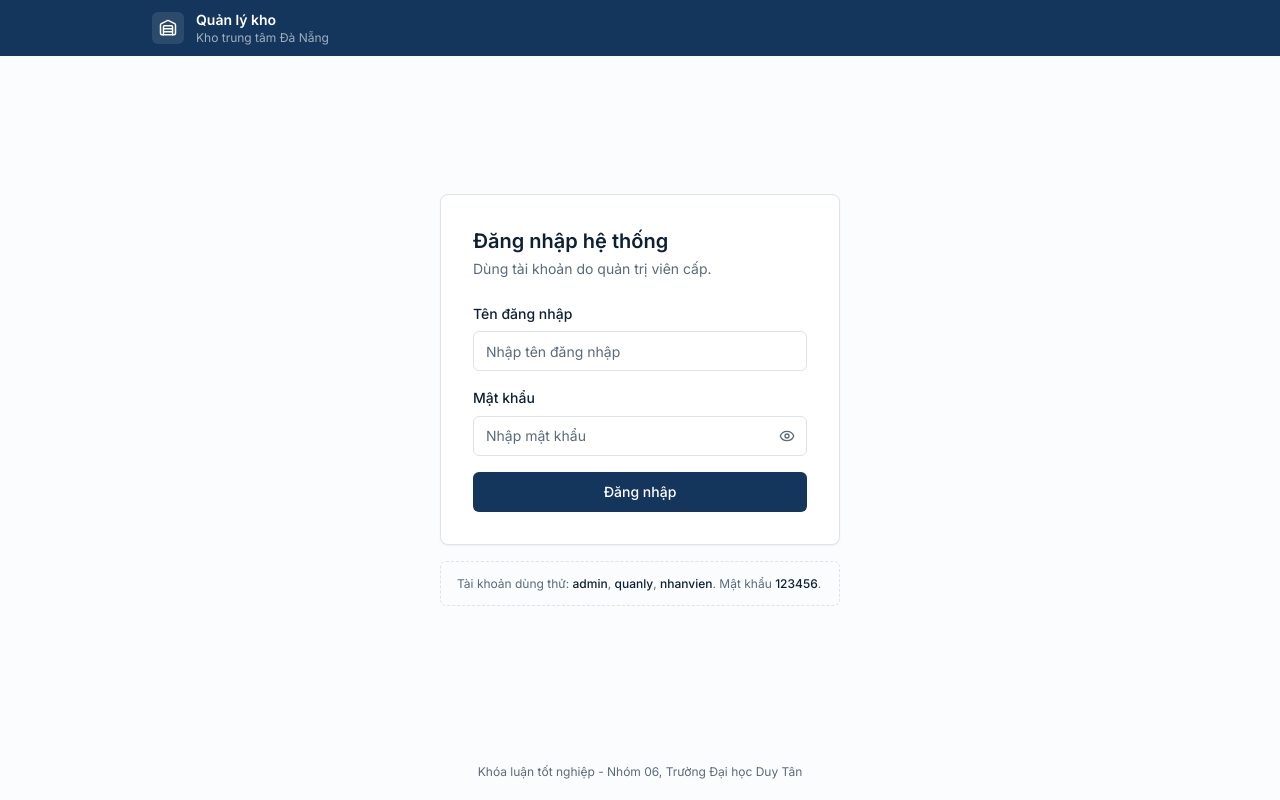
LoginPage › hiển thị thông báo lỗi từ API dưới form khi sai mật khẩu hoặc tài khoản bị khóa
The image size is (1280, 800).
Type "quanly" into the field labelled "Tên đăng nhập".
click(640, 351); type("quanly")  # box [473,331,807,371]
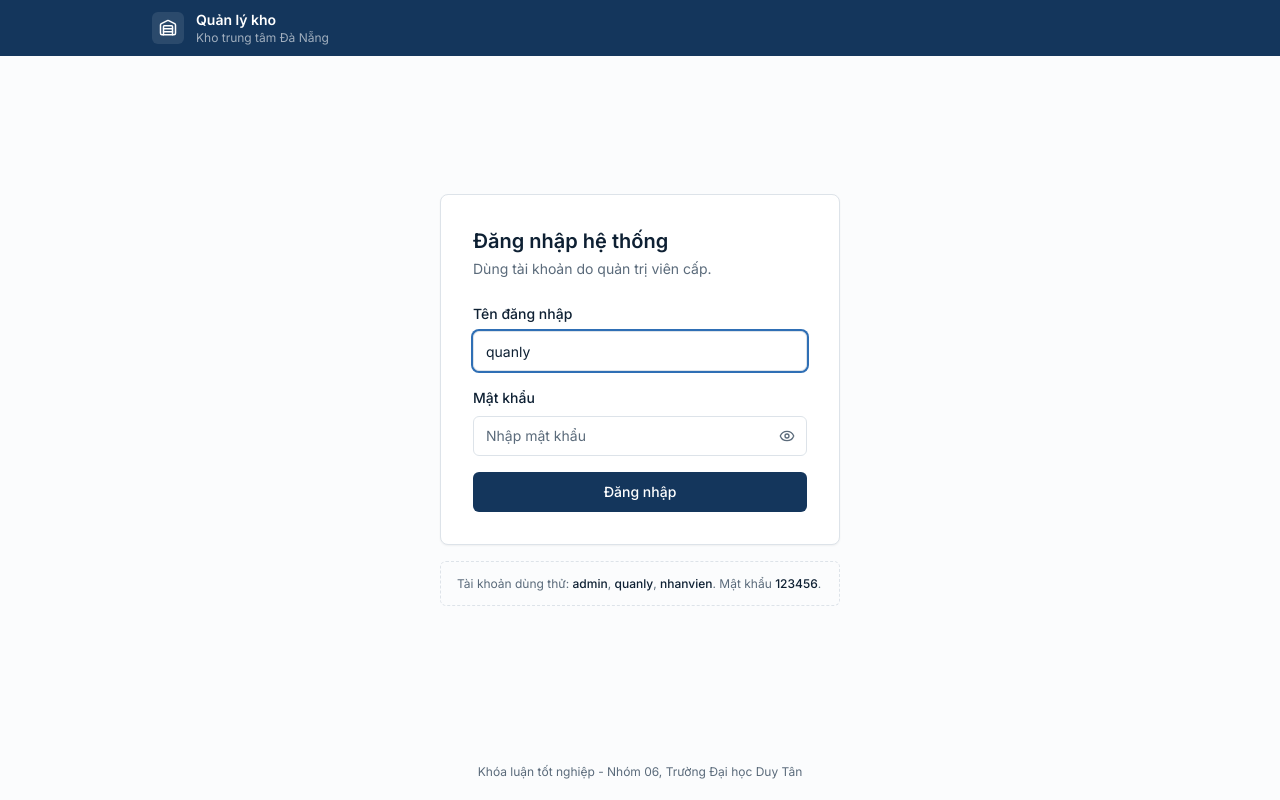
Type "sai-mat-khau" into the password field labelled "Mật khẩu".
click(640, 436); type("sai-mat-khau")  # box [473,416,807,456]
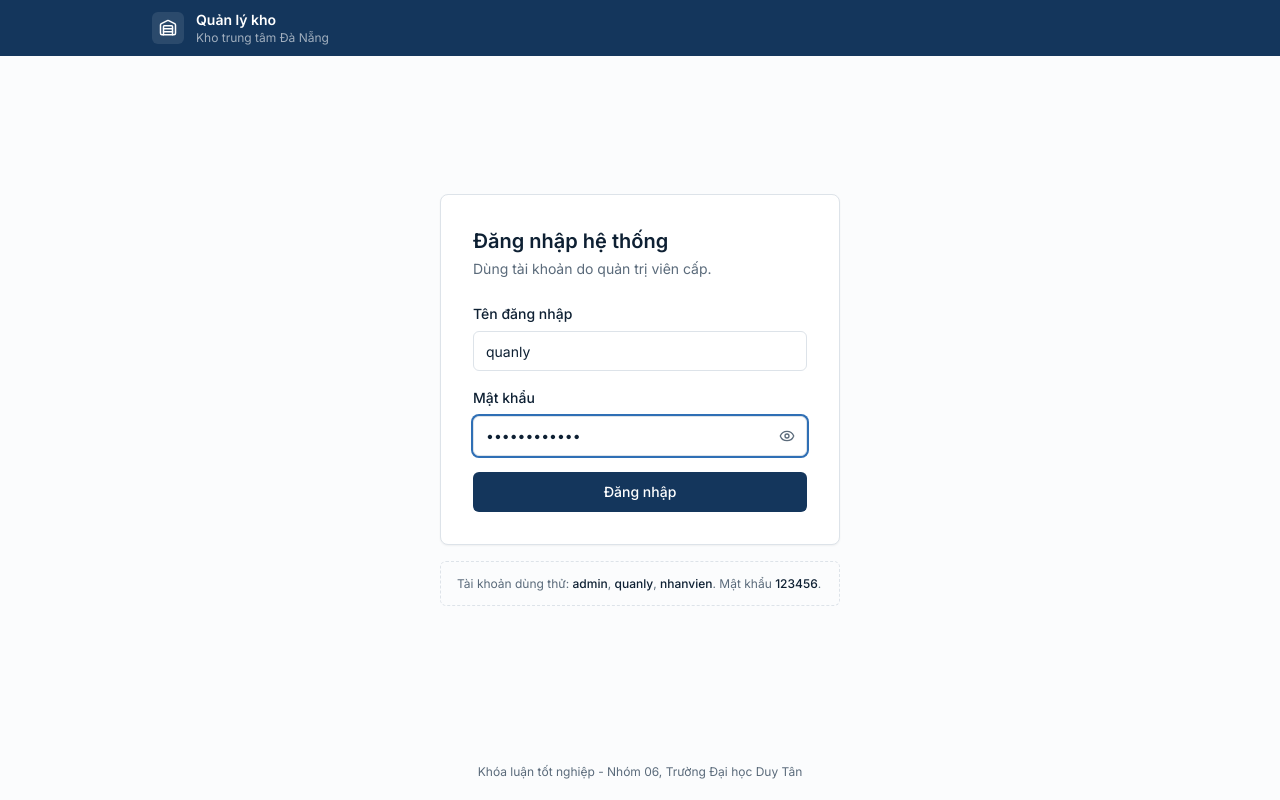
Click the button "Đăng nhập".
click(640, 492)  # box [473,472,807,512]
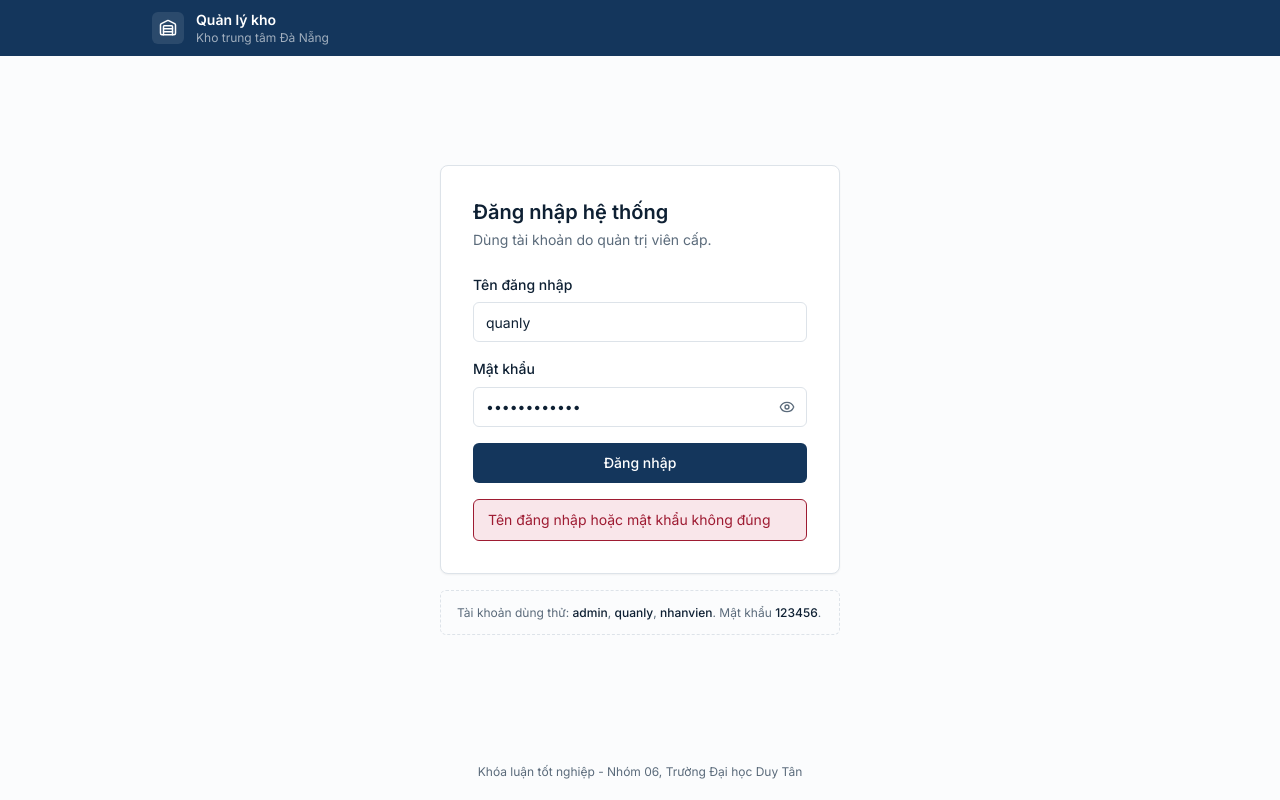
Expected: the text "Tên đăng nhập hoặc mật khẩu không đúng" is shown, [473,499,807,541]
